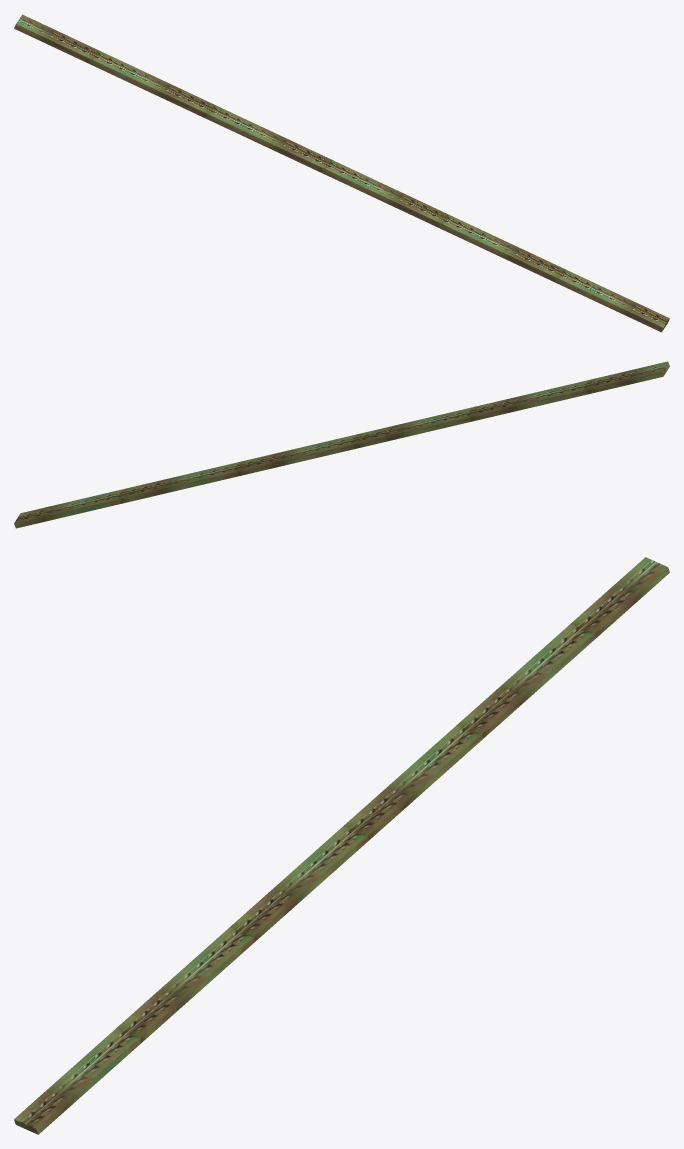
The model's file is GH_1_RoofT_4.gltf.
The picture shows the model from 3 angles, top to bottom: view 1: azimuth 30°, elevation 25°; view 2: azimuth 210°, elevation 25°; view 3: azimuth 270°, elevation 25°; orthographic projection. The views are drawn at different scales.
Parts seen in each view (by area): view 1: GH_1_RoofT_4; view 2: GH_1_RoofT_4; view 3: GH_1_RoofT_4.
Part boxes in pixels (x1,y1,x2,y2): GH_1_RoofT_4: [14, 14, 669, 332]; GH_1_RoofT_4: [14, 361, 669, 528]; GH_1_RoofT_4: [14, 557, 669, 1134].
Size of the model in its own units: 3.59 by 1.88 by 3.65.
Materials: 1 (1 with a texture image).
